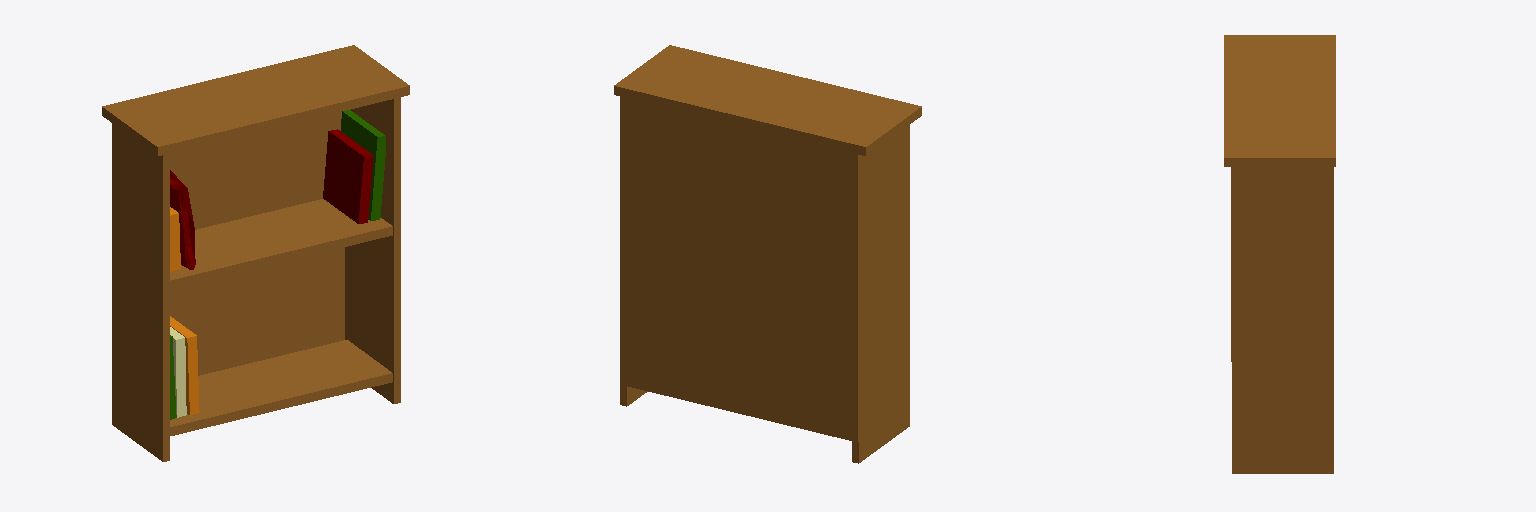
File: smallbookshelves.obj
3 renders of one model, left to right at view 1: azimuth 30°, elevation 25°; view 2: azimuth 150°, elevation 25°; view 3: azimuth 270°, elevation 25°, orthographic.
Parts seen in each view (by area): view 1: back, left_side, top, bottom_shelf, right_side, middle_shelf, red_book, green_book_2, red_book_2, orange_book, white_book, orange_book_2; view 2: back, top, left_side; view 3: right_side, top.
Boxes of the visible parts, <box> form: back: <box>170,112,344,375</box>; left_side: <box>112,123,169,461</box>; top: <box>102,45,409,155</box>; bottom_shelf: <box>170,340,392,435</box>; right_side: <box>345,97,400,403</box>; middle_shelf: <box>170,199,392,289</box>; red_book: <box>323,129,373,223</box>; green_book_2: <box>341,110,385,220</box>; red_book_2: <box>170,170,195,269</box>; orange_book: <box>170,316,199,414</box>; white_book: <box>170,327,186,417</box>; orange_book_2: <box>170,207,180,271</box>; back: <box>620,97,858,442</box>; top: <box>614,45,921,155</box>; left_side: <box>852,125,909,463</box>; right_side: <box>1232,167,1333,473</box>; top: <box>1224,35,1335,166</box>.
Size of the model in its own units: 0.8259 by 1 by 0.3165.